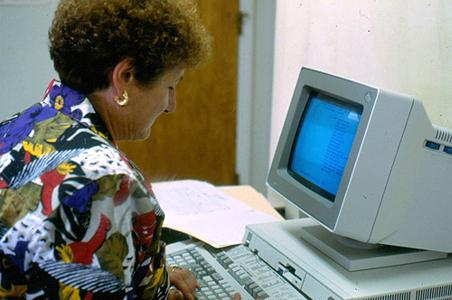person: (2, 1, 207, 300)
